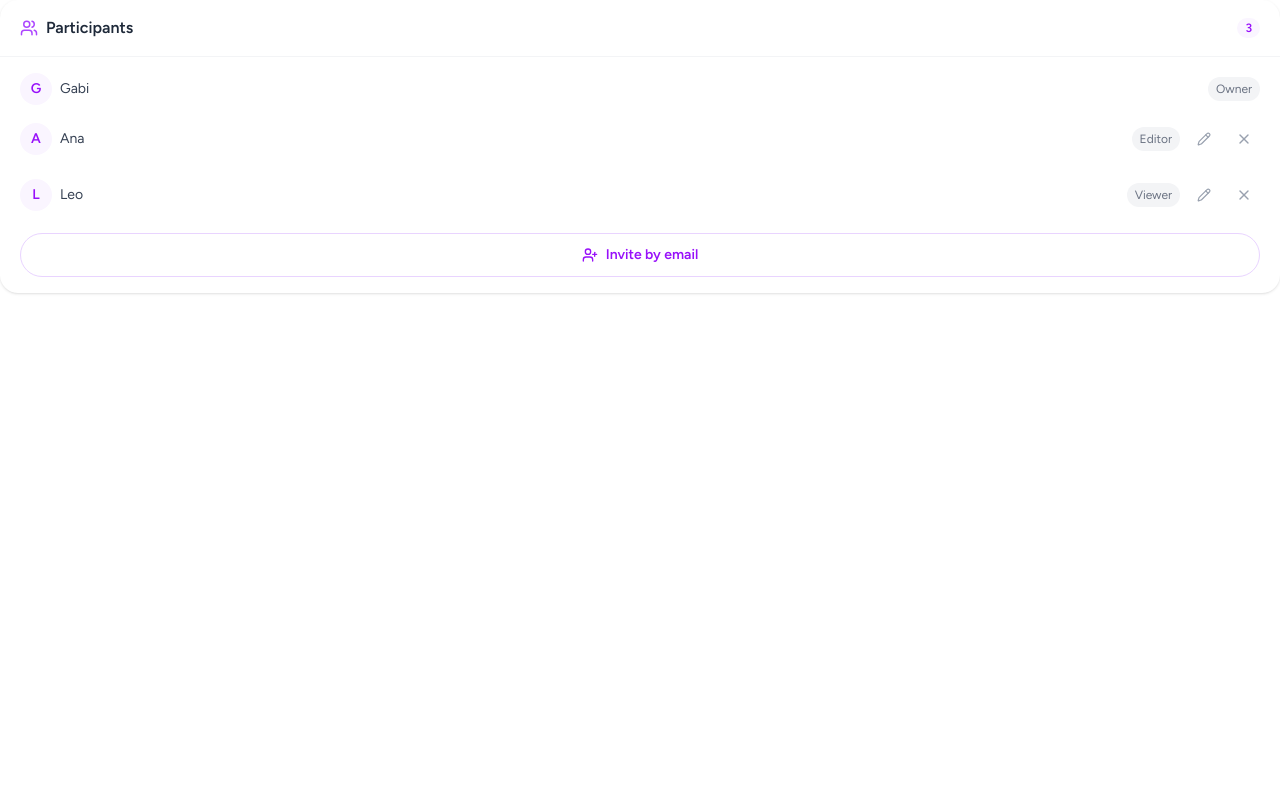
Test: Participants › removing › removes a participant after confirmation and refreshes the trip
Click the button named "Remove Leo".
click(1244, 195)  # box [1228,173,1260,217]
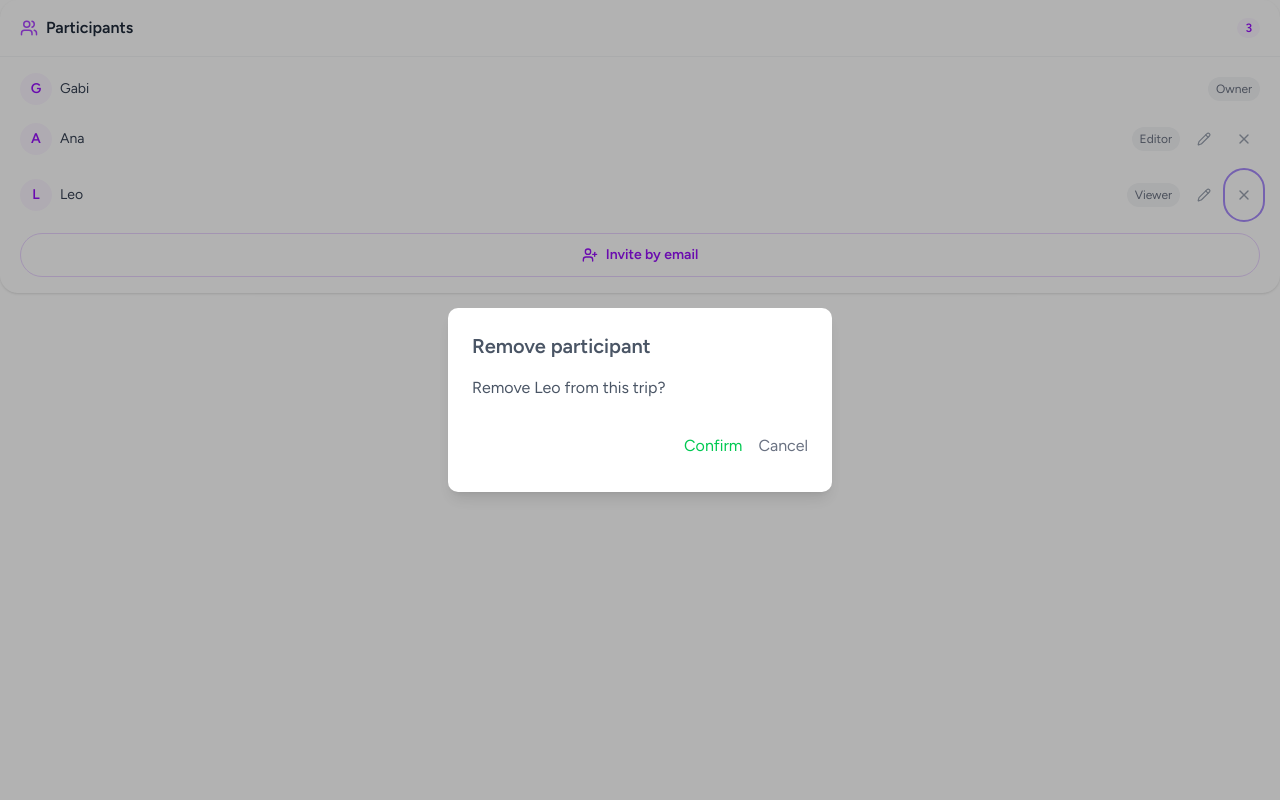
Expected: the text "Remove Leo from this trip?" is shown, [472,378,666,397]
Click the button "Confirm".
click(713, 446)  # box [684,424,742,468]
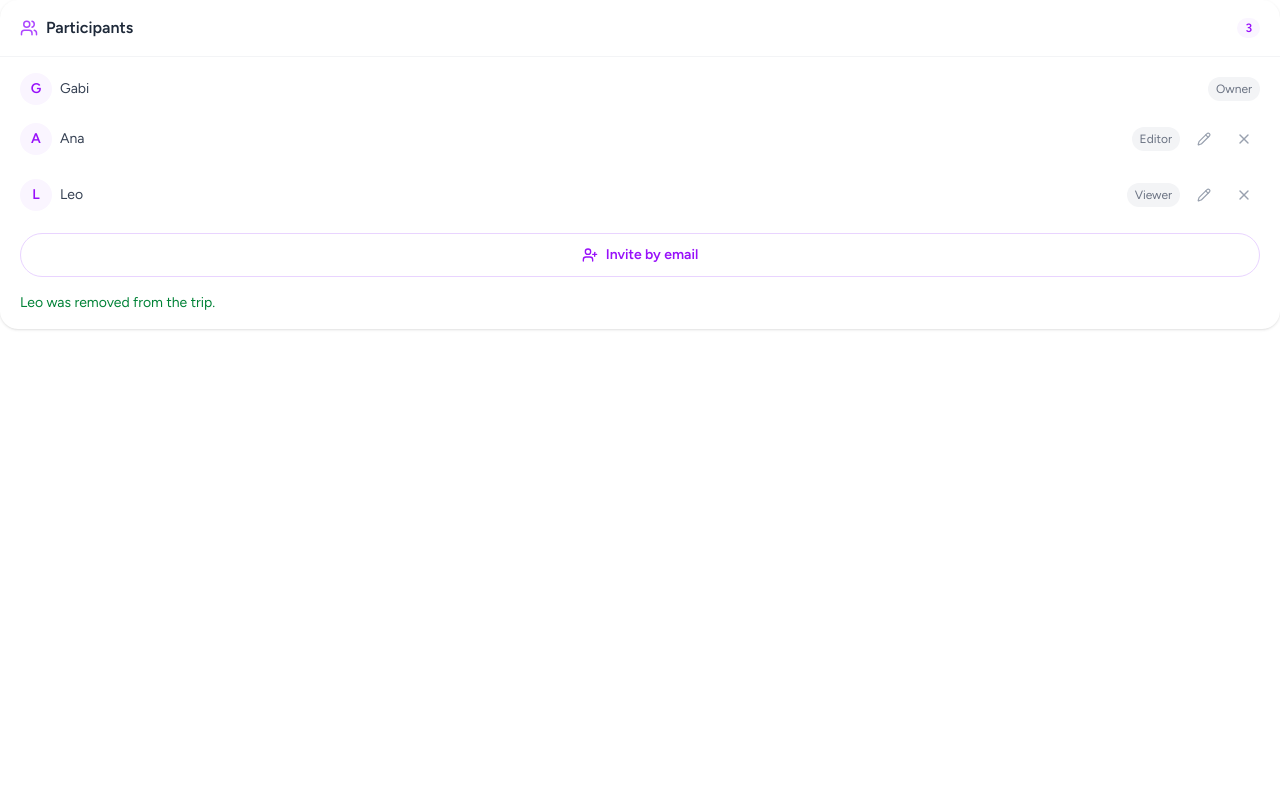
Expected: the message reads "Leo was removed from the trip.", [20,294,215,311]
